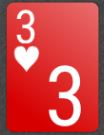Heart: (14, 46, 40, 72)
